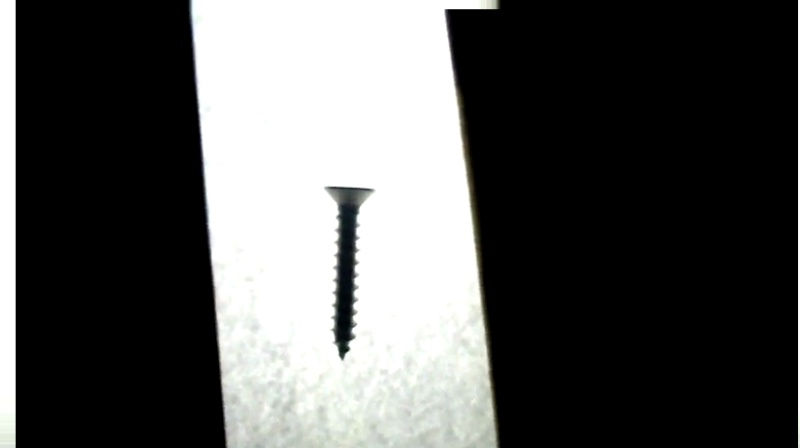S001: (322, 182, 376, 363)
